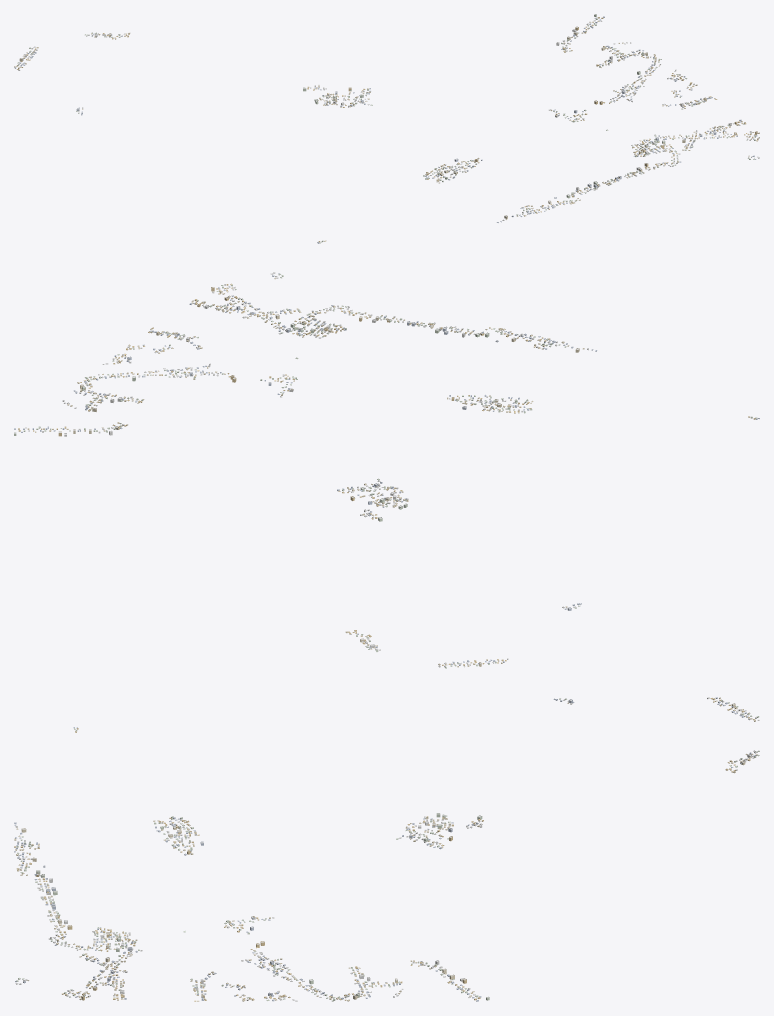
3 views of the same model, one above another, from view 1: azimuth 30°, elevation 25°; view 2: azimuth 150°, elevation 25°; view 3: azimuth 270°, elevation 25° (orthographic). The views are drawn at different scales.
Visible parts, largest first — view 1: house, roof_zinc, apartment; view 2: house, roof_zinc, apartment; view 3: house, roof_zinc, apartment.
Boxes of the visible parts, x1,y1,x2,y2 form: house: [14, 16, 759, 243]; roof_zinc: [14, 16, 759, 243]; apartment: [19, 14, 757, 218]; house: [14, 272, 759, 668]; roof_zinc: [14, 272, 759, 667]; apartment: [14, 287, 579, 666]; house: [14, 697, 759, 1001]; roof_zinc: [14, 697, 759, 1001]; apartment: [21, 699, 752, 1000].
Bounding box in the file's own units: 1.4e+08 × 726989 × 1.45e+08.
